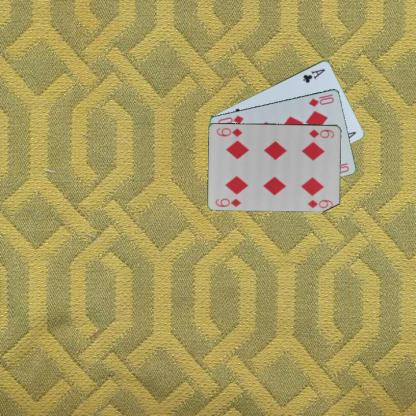10d: (306, 92, 335, 108)
6d: (306, 127, 335, 139), (213, 196, 242, 208)
Ac: (300, 66, 326, 84)
